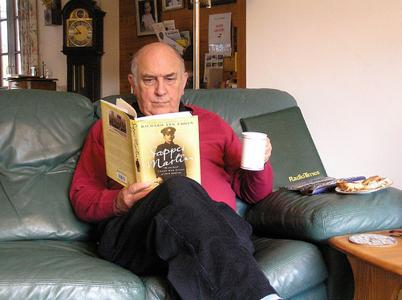person: (69, 41, 282, 300)
